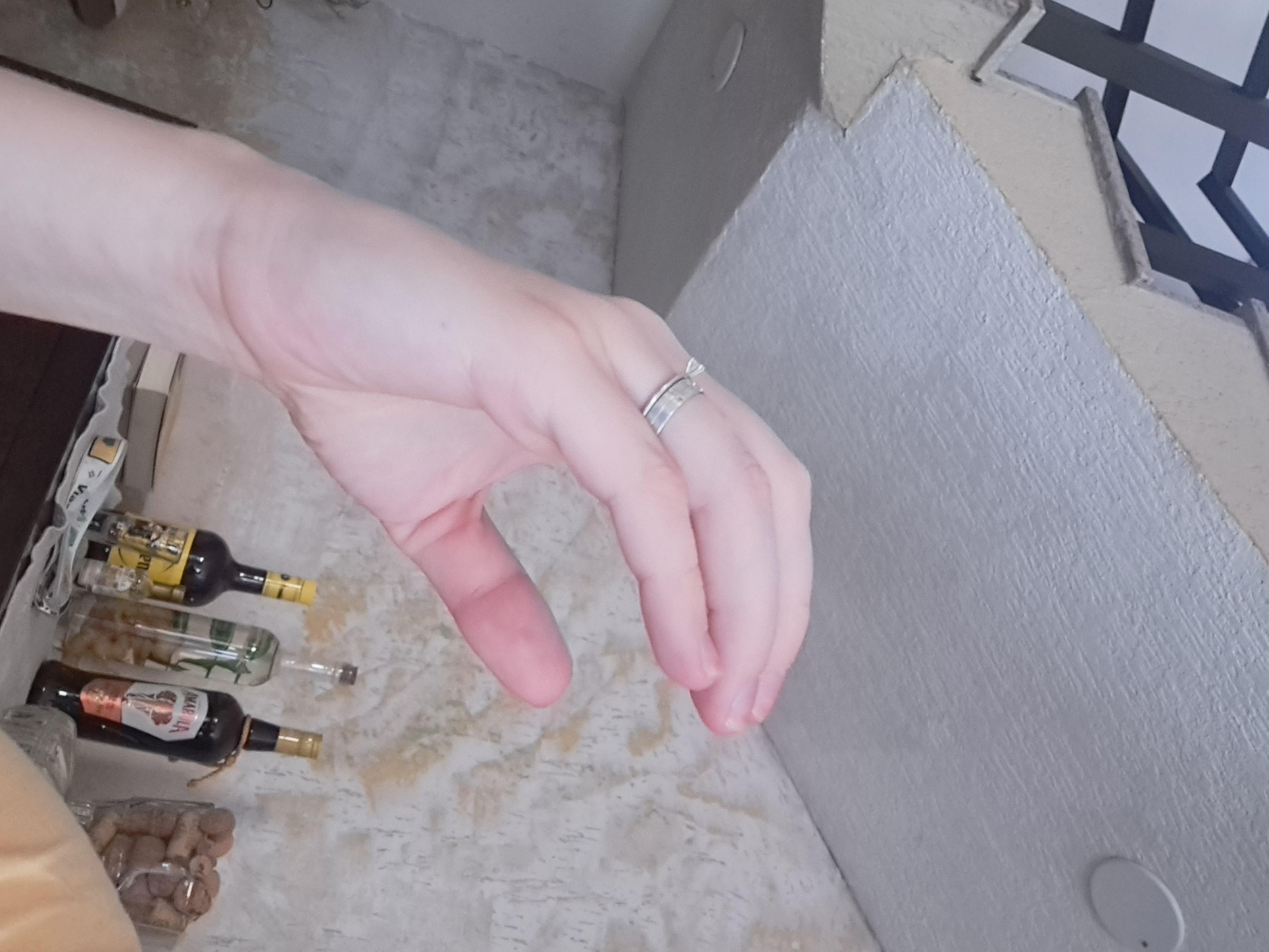C: (311, 321, 975, 750)
